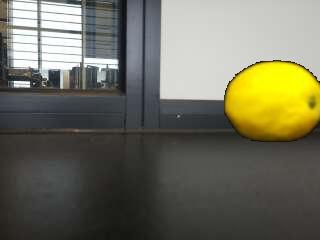Lemon: (225, 61, 320, 142)
